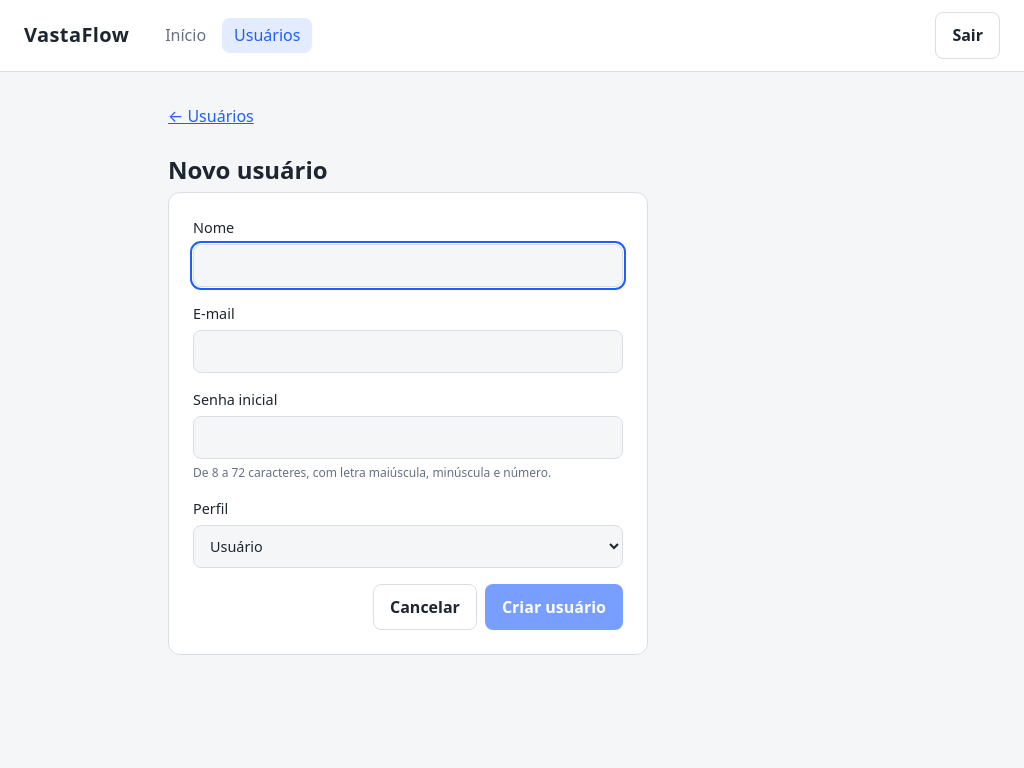
Test: formulario de usuario › cria o usuario e volta para a lista com mensagem de sucesso
Expected: the dropdown labelled "Perfil" shows "Usuário", x1=193 y1=526 x2=623 y2=568
In the field labelled "Nome": (408, 265) x1=193 y1=244 x2=623 y2=287, type "  Nina Nova "
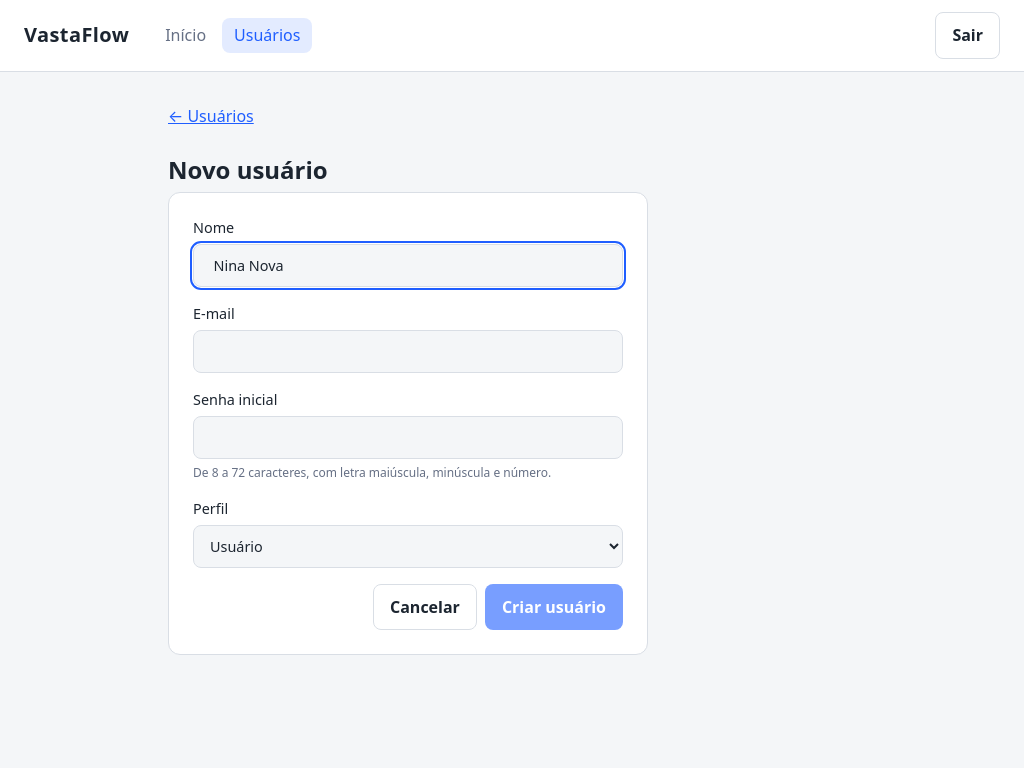
In the field labelled "E-mail": (408, 351) x1=193 y1=330 x2=623 y2=373, type "nina@vasta.test"
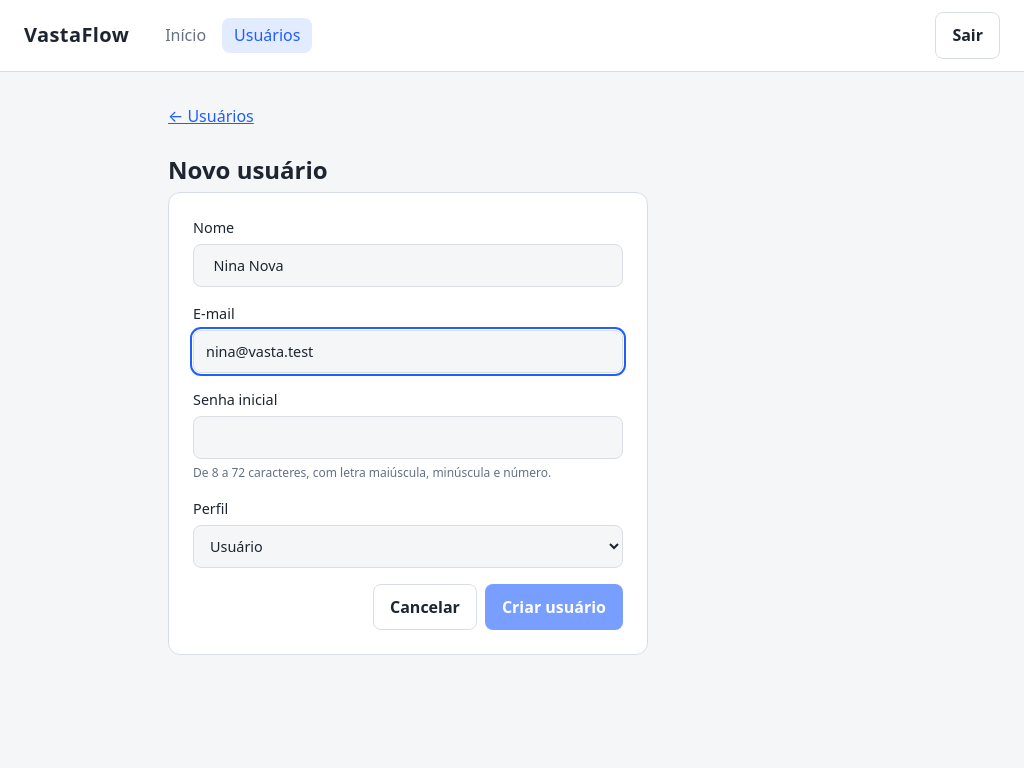
Expected: the button "Criar usuário" is disabled, x1=485 y1=584 x2=623 y2=630
In the password field labelled "Senha inicial": (408, 437) x1=193 y1=416 x2=623 y2=459, type "Senha1234"
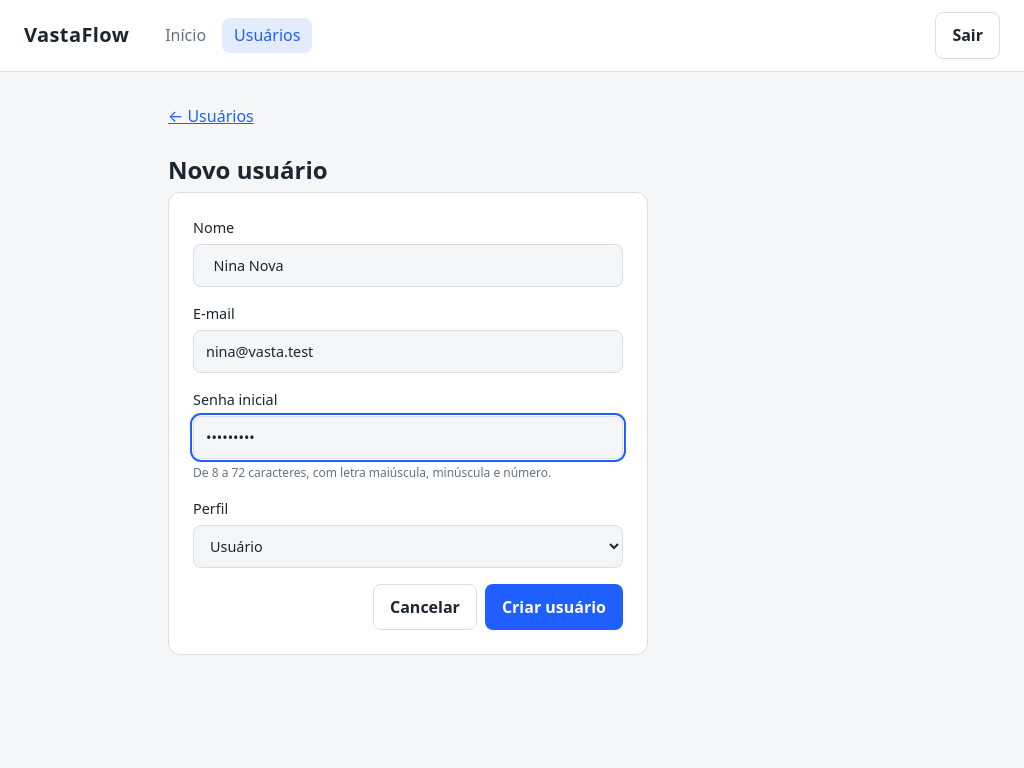
Select "Operador" in the dropdown labelled "Perfil": (408, 547) x1=193 y1=526 x2=623 y2=568
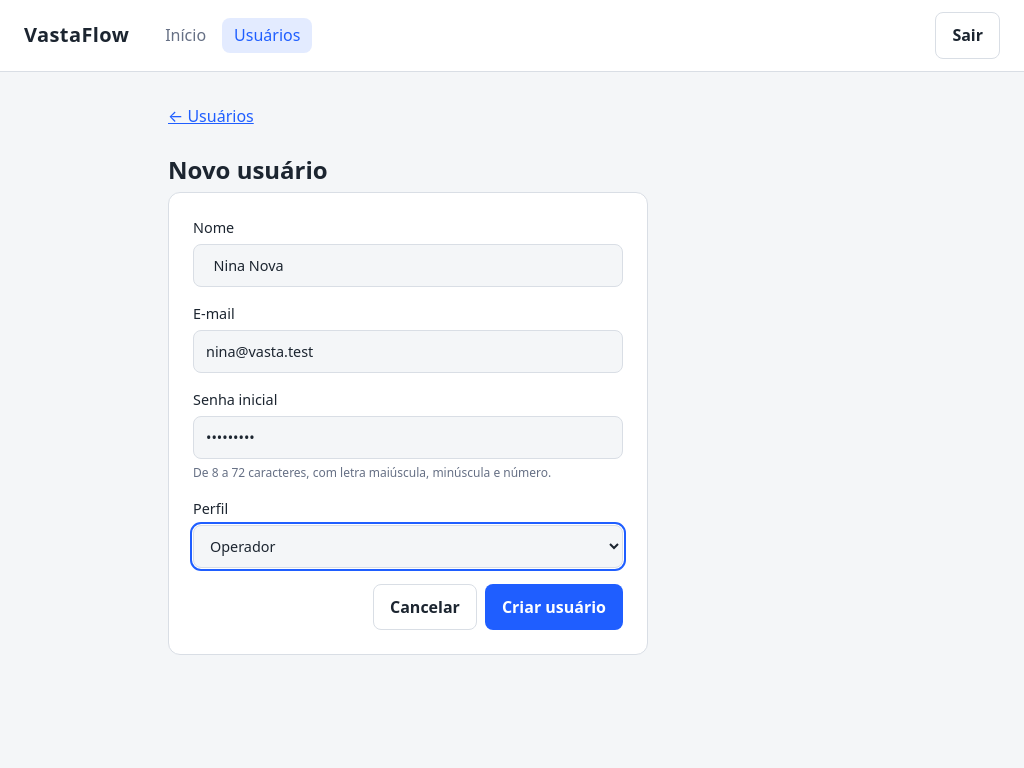
Click the button "Criar usuário": (554, 607) x1=485 y1=584 x2=623 y2=630
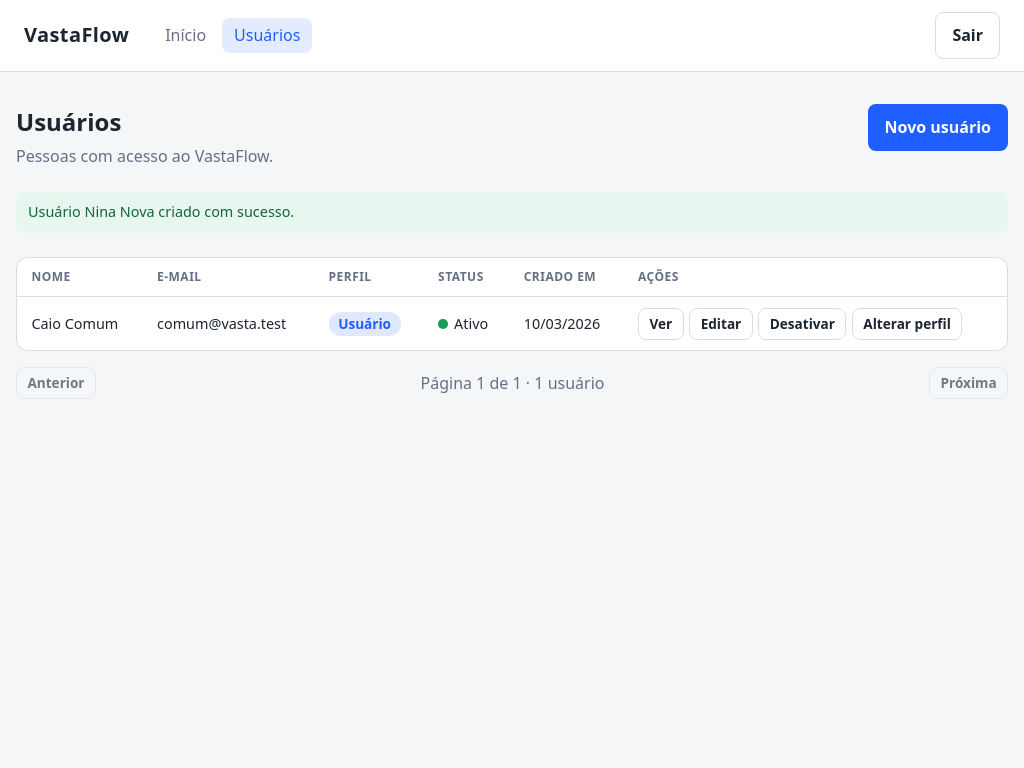
Expected: the message reads "Usuário Nina Nova criado com sucesso.", x1=28 y1=202 x2=294 y2=221
